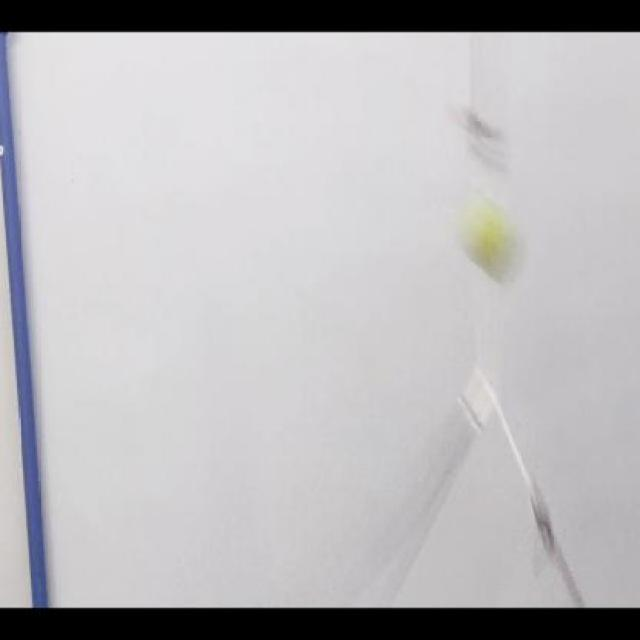baseball: (459, 212, 526, 268)
